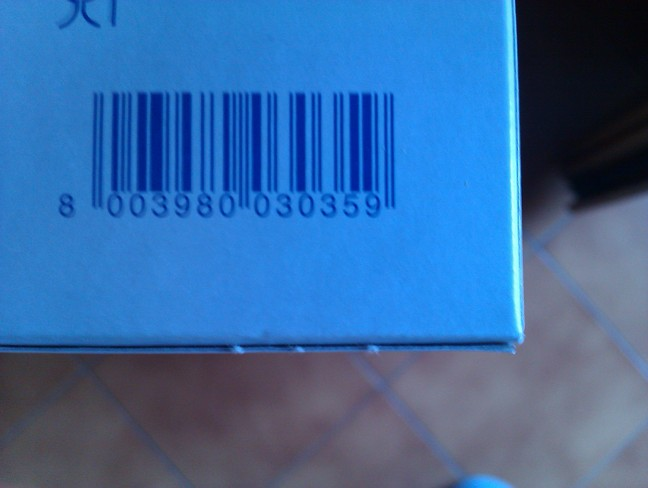detection: (30, 82, 413, 228)
